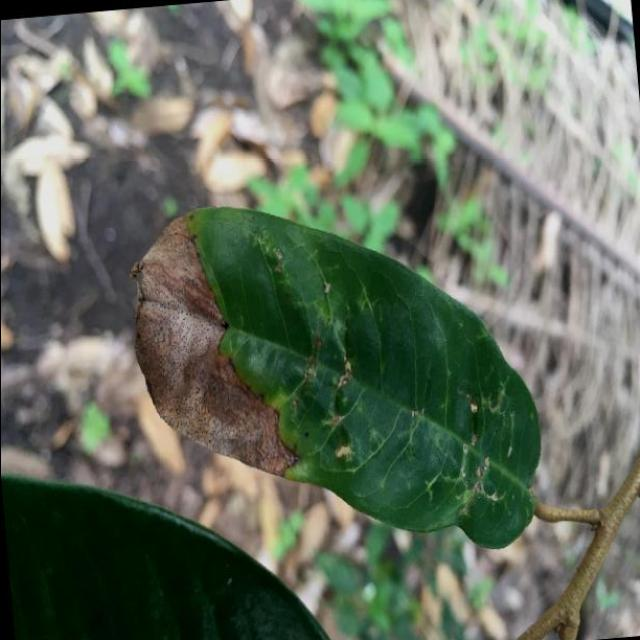Leaf Blight: (119, 172, 560, 586)
